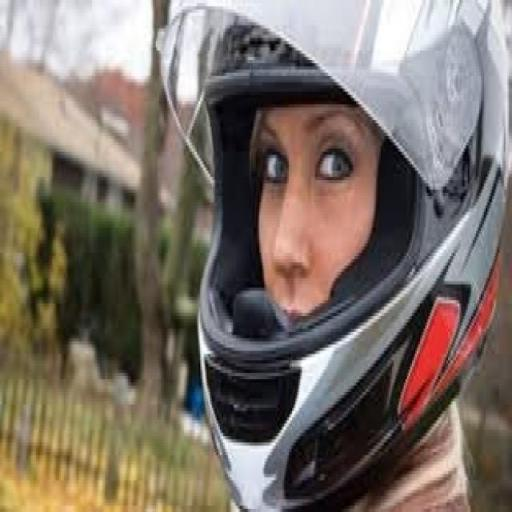Helmet: (158, 23, 510, 509)
